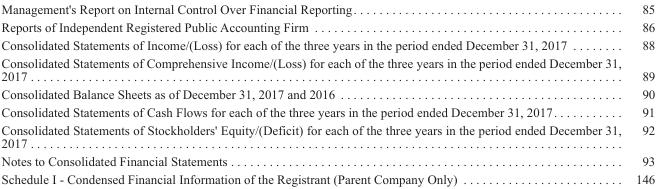table: (0, 1, 654, 186)
table column: (0, 1, 627, 186), (627, 1, 654, 186)
table row: (0, 53, 654, 84), (0, 120, 654, 151), (0, 151, 654, 170), (0, 17, 654, 35), (0, 35, 654, 53), (0, 84, 654, 102), (0, 102, 654, 120), (0, 1, 654, 17), (0, 170, 654, 186)
